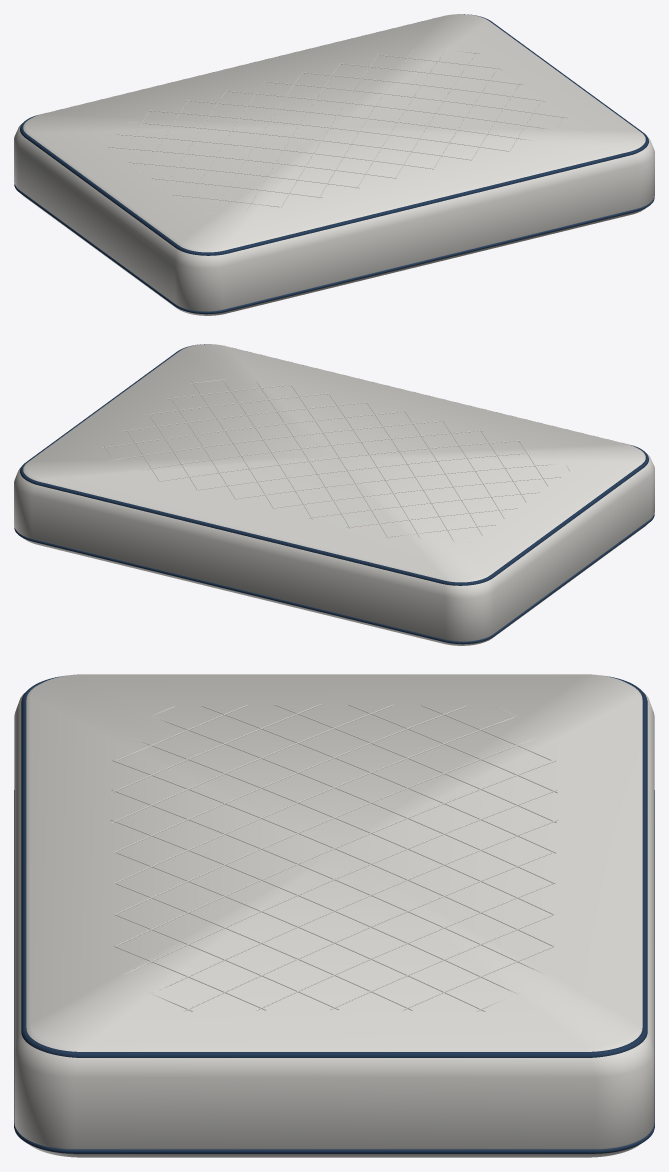
Rendered from mattress.glb.
3 views of the same model, one above another, from view 1: azimuth 30°, elevation 25°; view 2: azimuth 150°, elevation 25°; view 3: azimuth 270°, elevation 25° (orthographic). The views are drawn at different scales.
Parts seen in each view (by area): view 1: Матрас — белый ортопедический, Верхний тёмно-синий кант, Нижний тёмно-синий кант, Стёжка 007; view 2: Матрас — белый ортопедический, Верхний тёмно-синий кант, Нижний тёмно-синий кант, Стёжка 023; view 3: Матрас — белый ортопедический, Верхний тёмно-синий кант, Нижний тёмно-синий кант, Стёжка 007, Стёжка 023, Стёжка 008, Стёжка 024, Стёжка 006, Стёжка 022, Стёжка 009, Стёжка 025.
Part boxes in pixels (x1,y1,x2,y2): Матрас — белый ортопедический: (14, 14, 654, 315); Верхний тёмно-синий кант: (20, 14, 648, 255); Нижний тёмно-синий кант: (14, 184, 654, 314); Стёжка 007: (147, 110, 508, 151); Матрас — белый ортопедический: (14, 344, 654, 645); Верхний тёмно-синий кант: (20, 344, 648, 585); Нижний тёмно-синий кант: (14, 514, 654, 644); Стёжка 023: (160, 440, 521, 481); Матрас — белый ортопедический: (14, 674, 654, 1157); Верхний тёмно-синий кант: (21, 676, 647, 1057); Нижний тёмно-синий кант: (14, 790, 654, 1153); Стёжка 007: (116, 760, 556, 946); Стёжка 023: (112, 760, 552, 946); Стёжка 008: (124, 789, 557, 974); Стёжка 024: (111, 789, 544, 974); Стёжка 006: (115, 737, 537, 914); Стёжка 022: (131, 737, 553, 914); Стёжка 009: (149, 819, 558, 994); Стёжка 025: (110, 819, 519, 994).
Size of the model in its own units: 2 by 0.2881 by 1.4.
